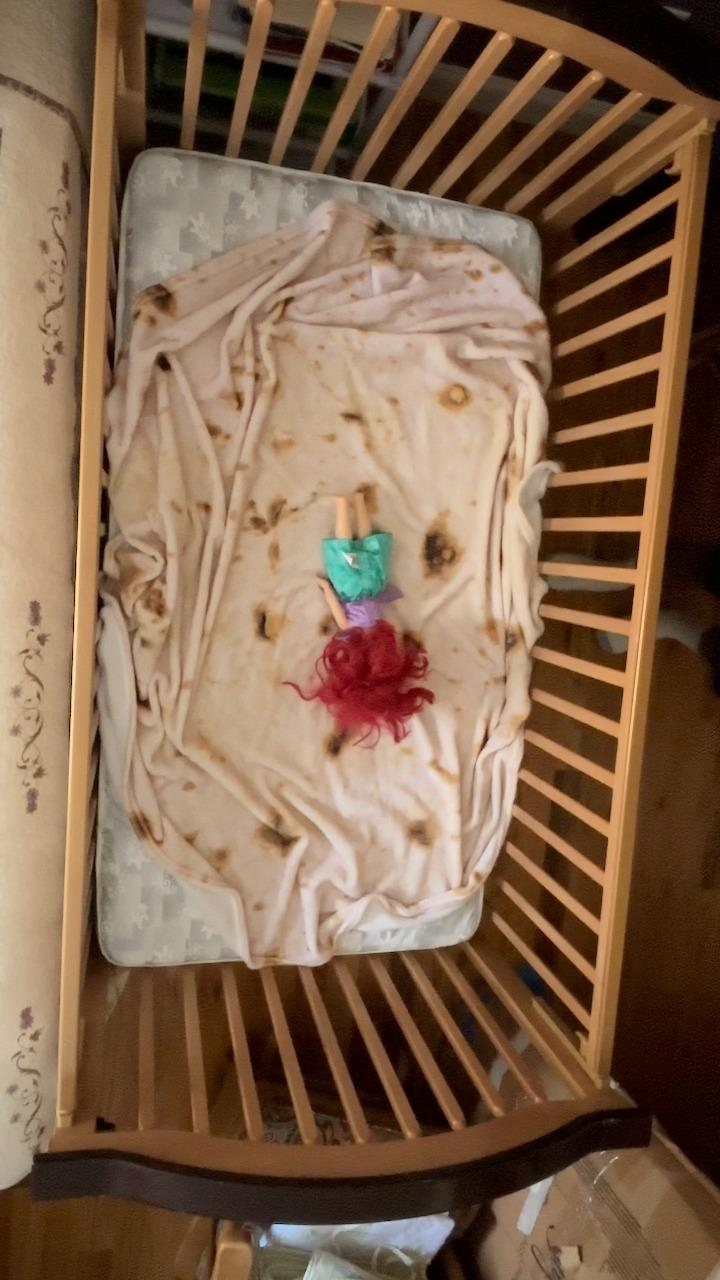baby: (316, 487, 419, 710)
